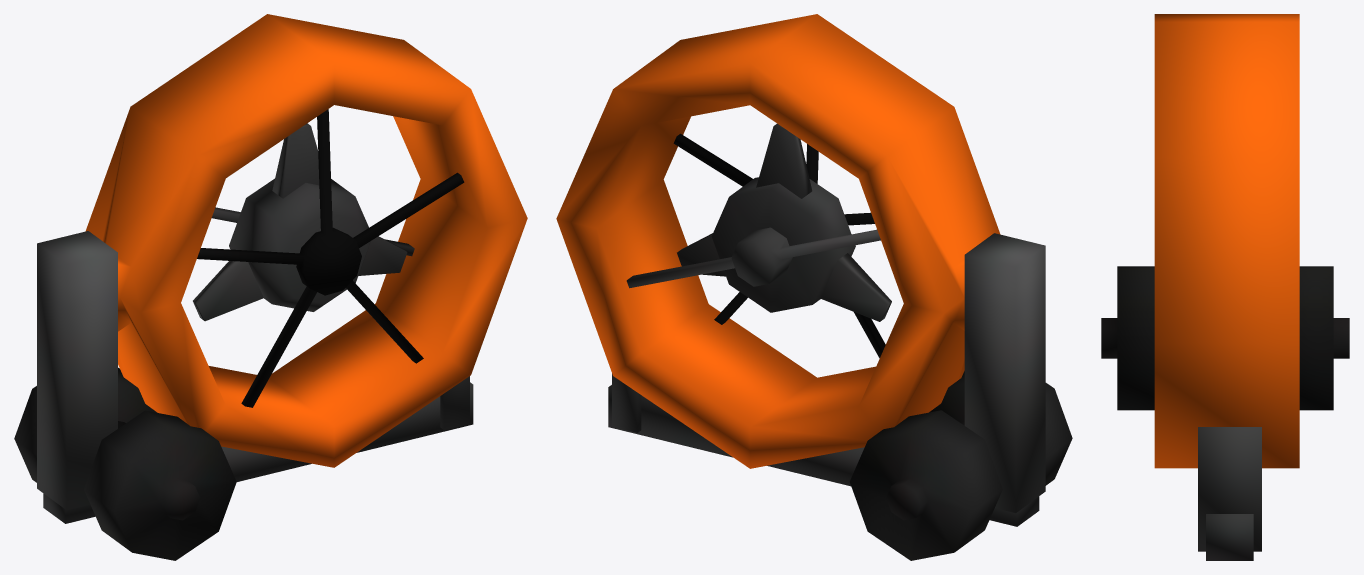
The model's file is VentiladorIndustrial.fbx.
3 renders of one model, left to right at view 1: azimuth 30°, elevation 25°; view 2: azimuth 150°, elevation 25°; view 3: azimuth 270°, elevation 25°, orthographic. The views are drawn at different scales.
Visible parts, largest first — view 1: VentiladorIndustrial, Ventoinha; view 2: VentiladorIndustrial, Ventoinha; view 3: VentiladorIndustrial.
Boxes of the visible parts, x1,y1,x2,y2 form: VentiladorIndustrial: [14, 14, 527, 560]; Ventoinha: [193, 123, 407, 321]; VentiladorIndustrial: [556, 14, 1072, 560]; Ventoinha: [677, 123, 891, 321]; VentiladorIndustrial: [1101, 14, 1349, 560].
Bounding box in the file's own units: 95.34 × 91.34 × 42.96.
1 material, 1 textured.
